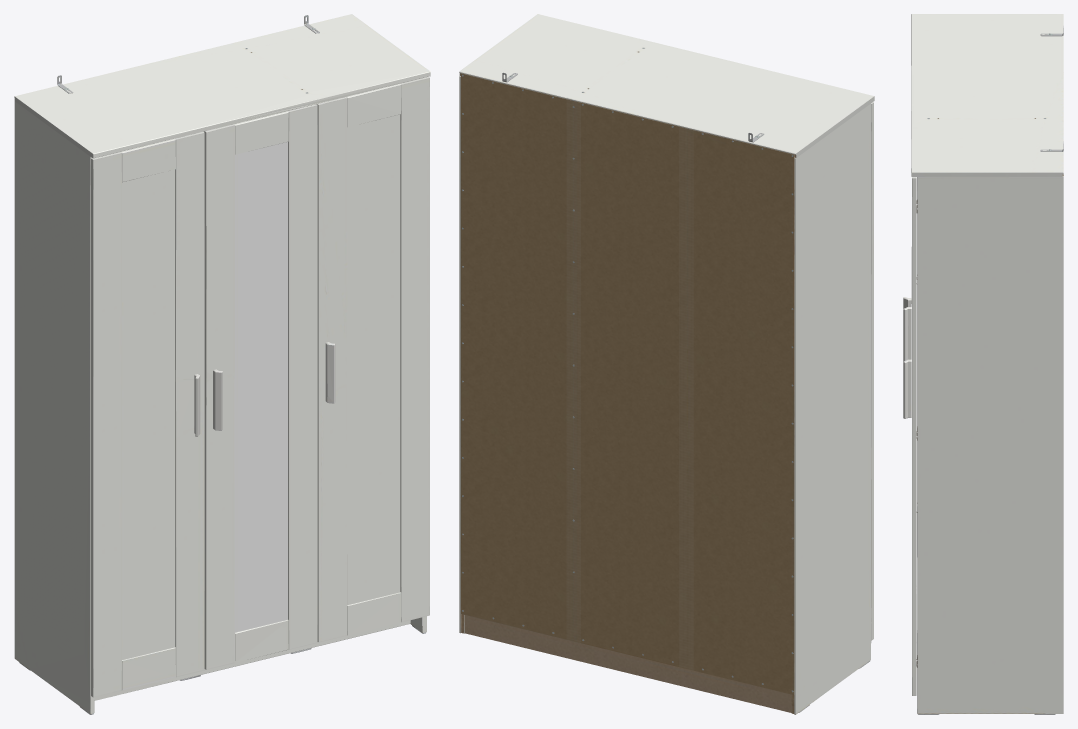
The picture shows the model from 3 angles, left to right: view 1: azimuth 30°, elevation 25°; view 2: azimuth 150°, elevation 25°; view 3: azimuth 270°, elevation 25°; orthographic projection. The views are drawn at different scales.
Visible parts, largest first — view 1: world; view 2: world; view 3: world.
Boxes of the visible parts, bbox=[...] form: world: bbox=[14, 14, 430, 714]; world: bbox=[459, 14, 874, 714]; world: bbox=[903, 14, 1063, 714].
Size of the model in its own units: 1.17 by 1.9 by 0.5.
2 materials, 2 textured.
